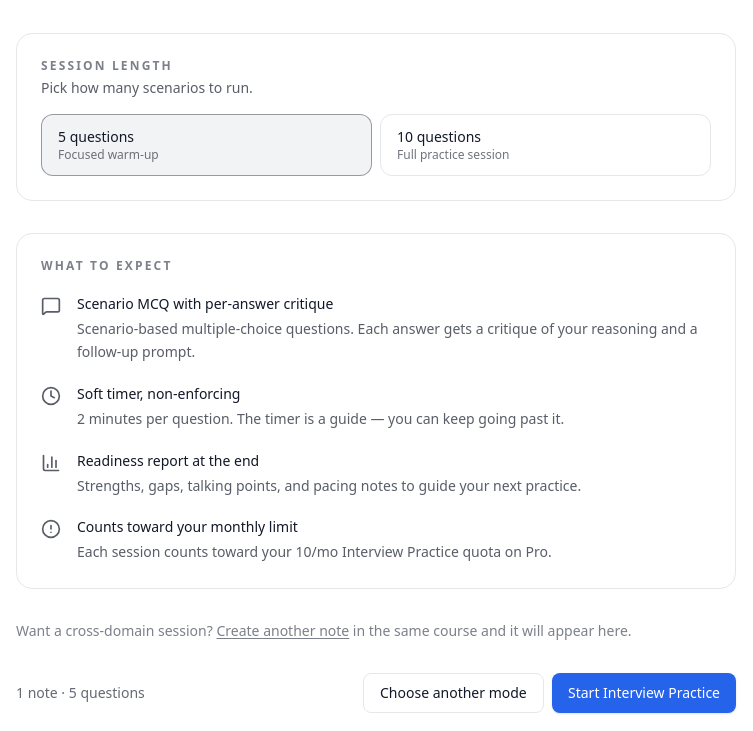
Test case: InterviewPracticePage › hides the app-shell chrome once practice is running, and keeps the Leave Practice exit reachable
The width and height of the screenshot is (753, 731).
(page scrolled)
Click the button "Start Interview Practice" at (644, 693), box 552,673 -> 736,713
(page scrolled)
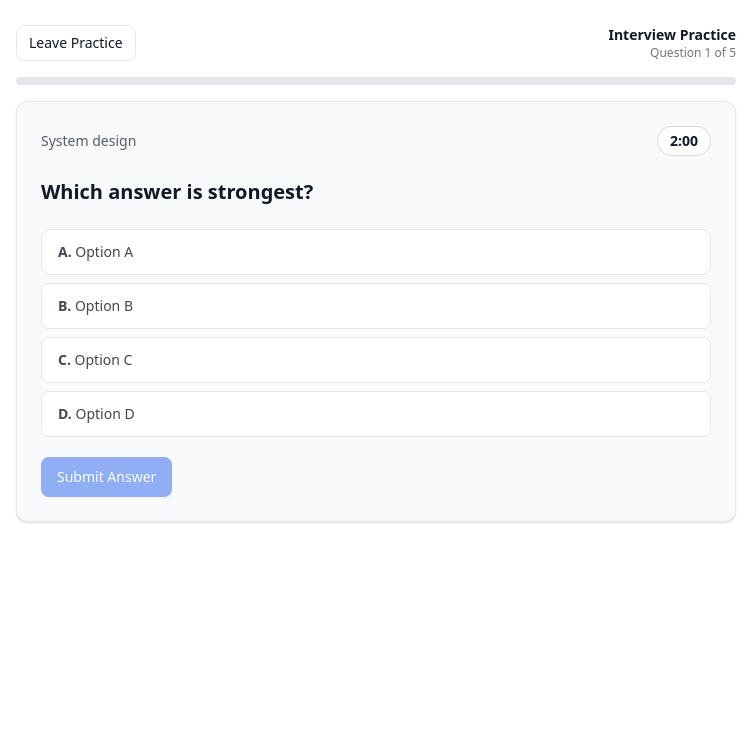
Expected: the button "Leave Practice" is shown, 16,25 -> 136,61
